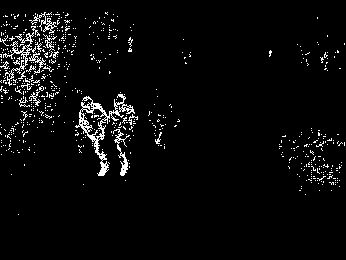person: (78, 96, 109, 175), (109, 94, 135, 176), (149, 90, 180, 147)
